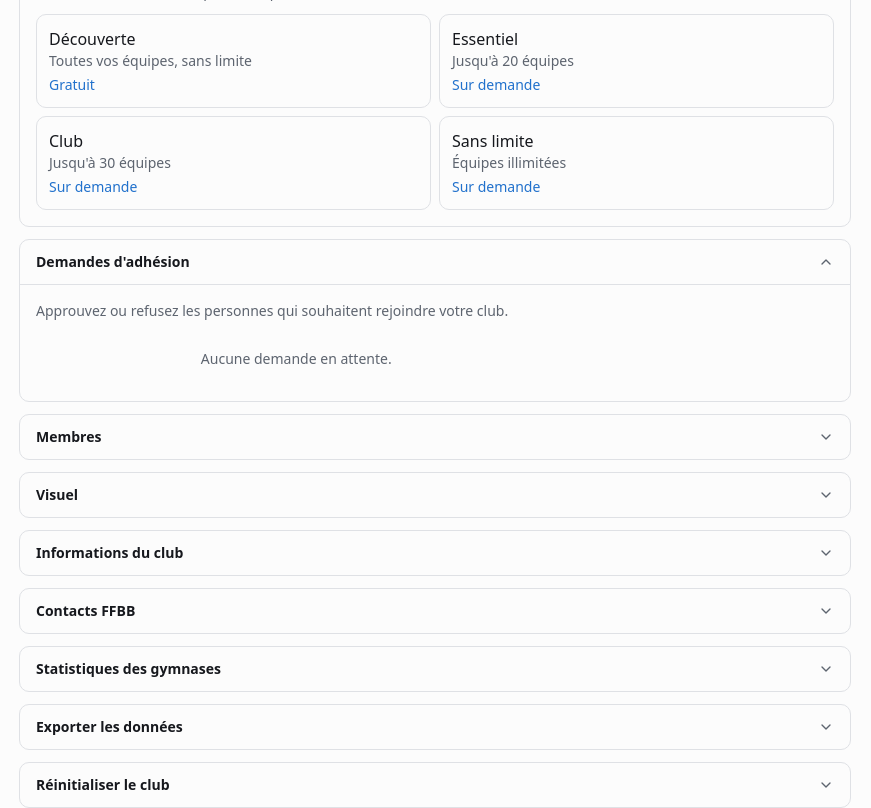
Test: ClubPage › Stats gymnases : deux tableaux (gymnase, niveau) + ligne TOTAL de négociation, tout venant du serveur
(page scrolled)
Click the button "Statistiques des gymnases" at (128, 668), box [20, 647, 850, 691]
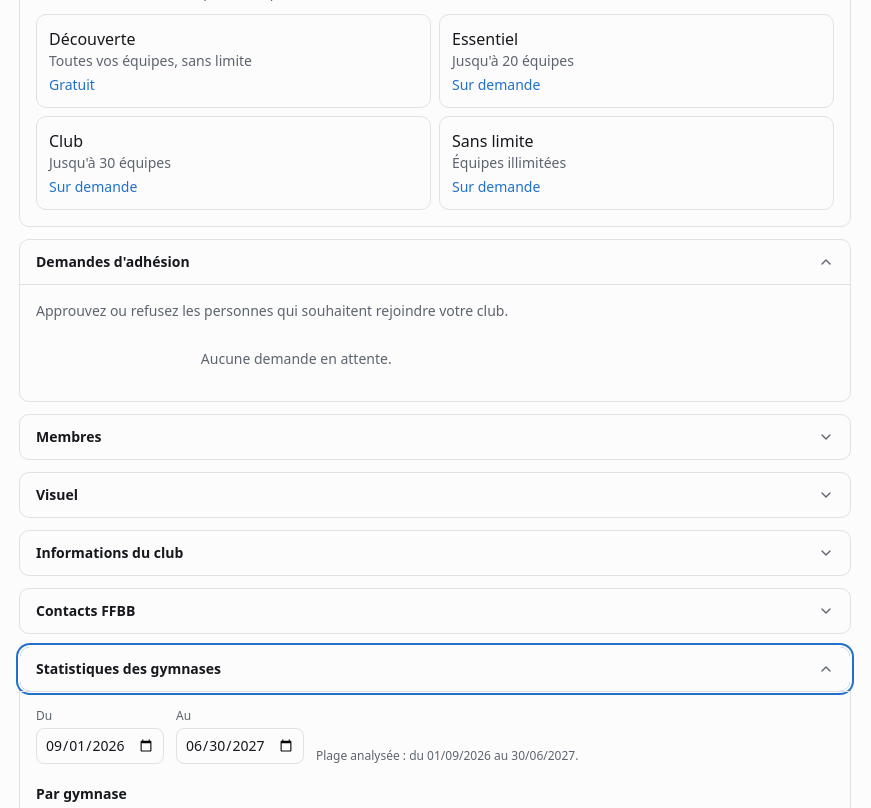
Expected: the heading "Par gymnase" is shown, [36, 784, 127, 803]
Expected: the text "Plage analysée : du 01/09/2026 au 30/06/2027." is shown, [316, 748, 578, 764]
